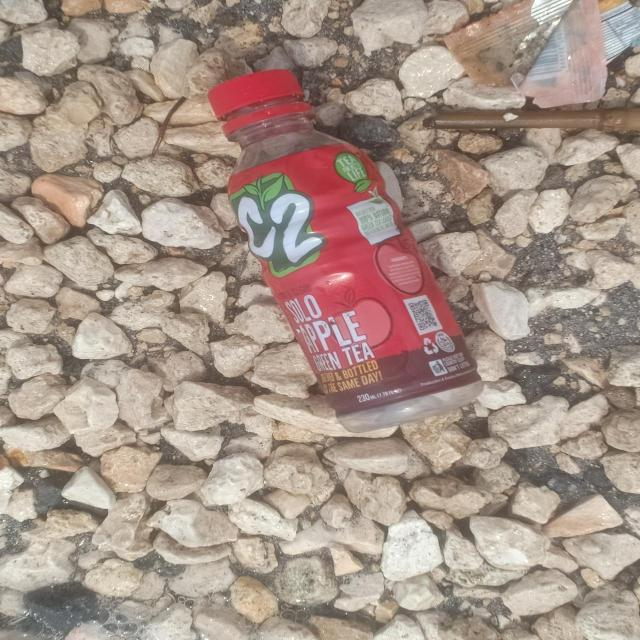plastic_waste: (218, 74, 489, 438), (436, 1, 640, 109)
